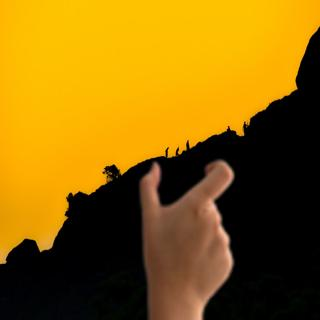Irritated: (134, 155, 238, 314)
